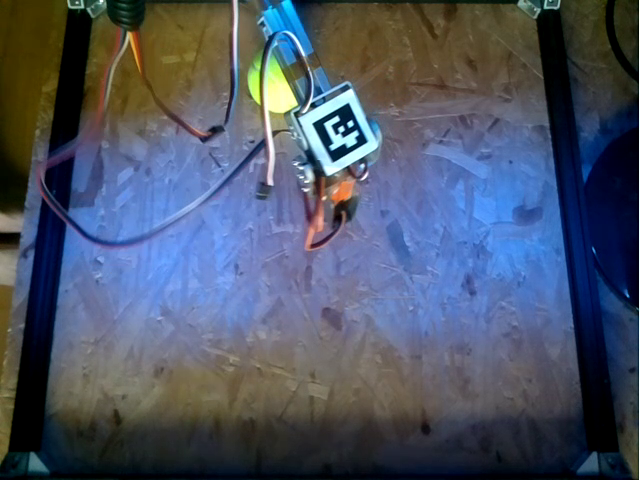tennis_ball: (247, 48, 295, 112)
